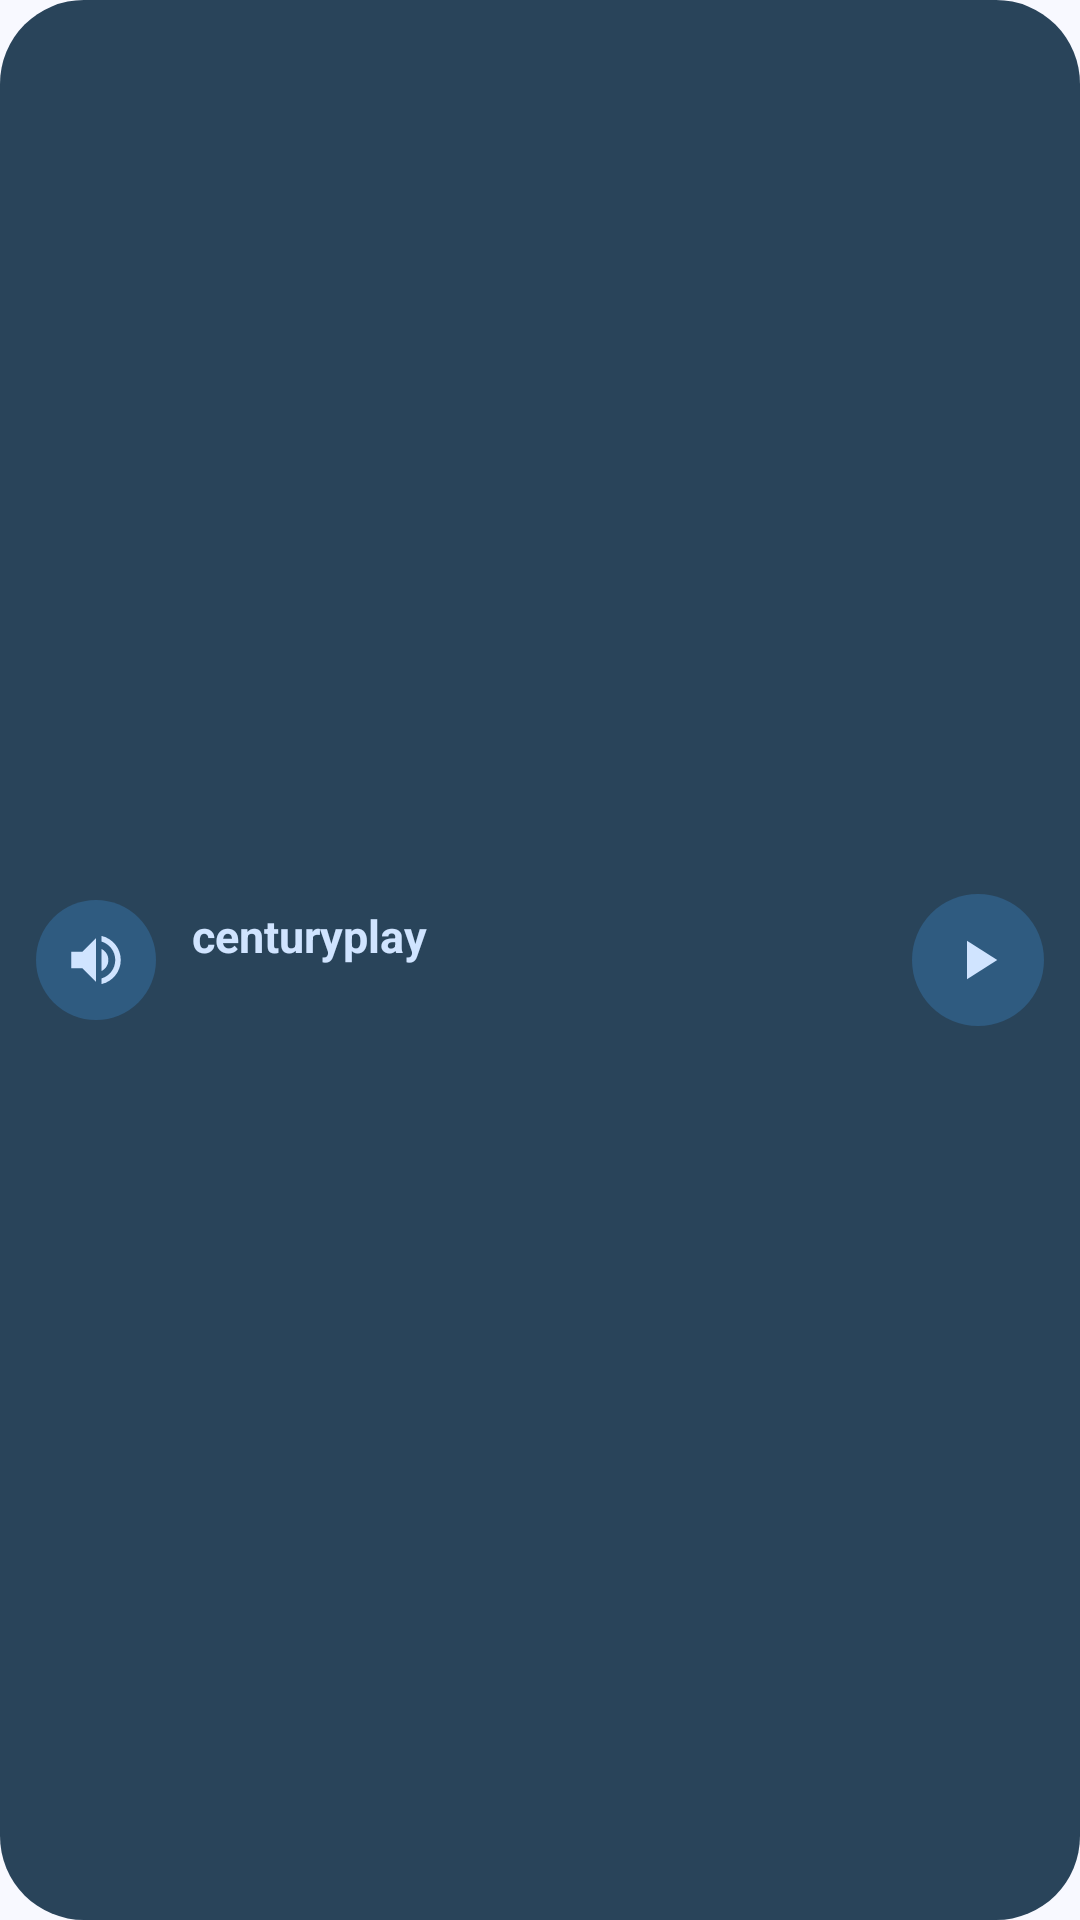

Named icons in this screenshot (1080 x 1920) and their bounding boxes, BBox(x1, y1, x2, y2):
widget speaker: BBox(36, 900, 156, 1020)
